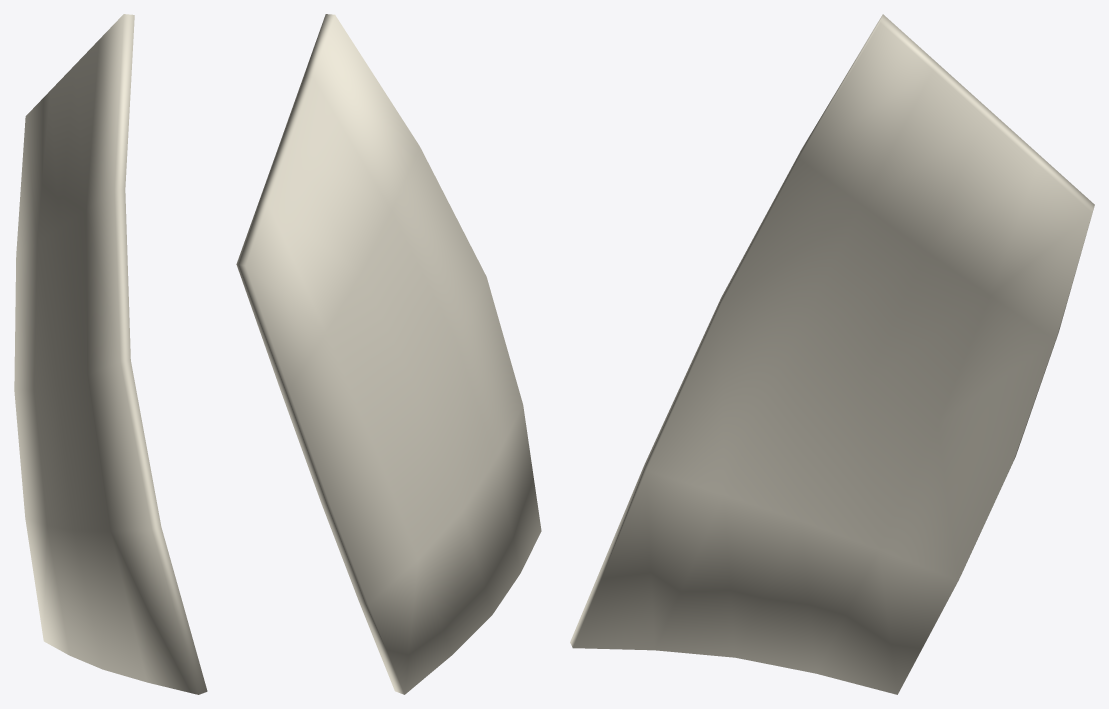
3 views of the same model, side by side, from view 1: azimuth 30°, elevation 25°; view 2: azimuth 150°, elevation 25°; view 3: azimuth 270°, elevation 25° (orthographic). The views are drawn at different scales.
Parts seen in each view (by area): view 1: ZA_facef774dff4d773; view 2: ZA_facef774dff4d773; view 3: ZA_facef774dff4d773.
Boxes of the visible parts, left/top/right/bottom form: ZA_facef774dff4d773: left=14, top=14, right=207, bottom=694; ZA_facef774dff4d773: left=236, top=14, right=541, bottom=694; ZA_facef774dff4d773: left=570, top=14, right=1094, bottom=694.
Size of the model in its own units: 0.00453 by 0.0282 by 0.0187.
